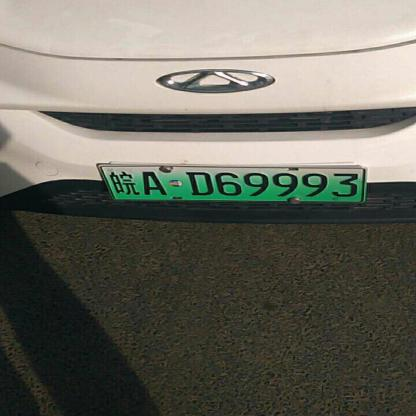lp: (100, 166, 366, 202)
